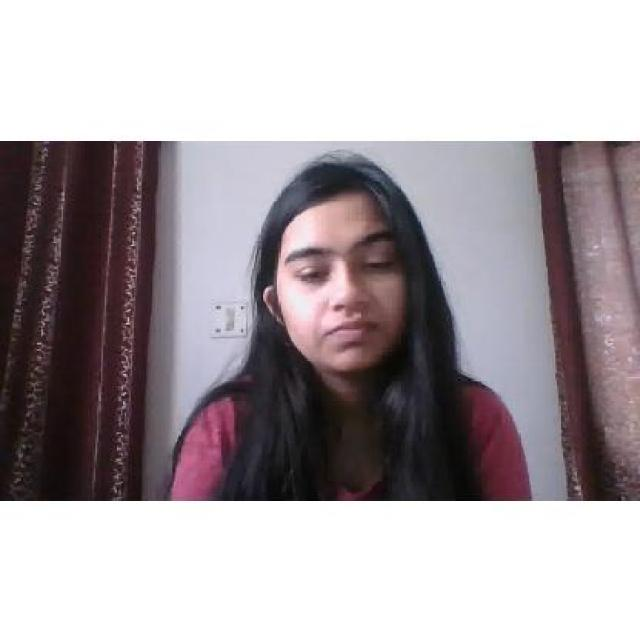inattentif: (265, 160, 409, 375)
